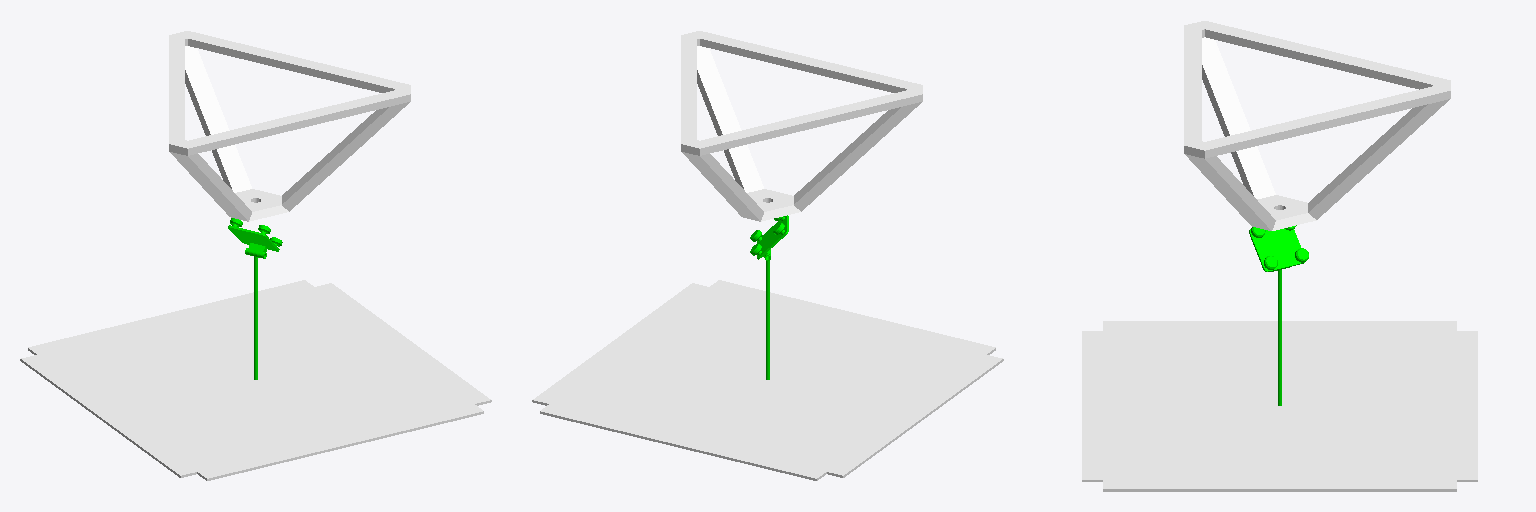
URDF robot description (deltarobot):
<?xml version="1.0"?>
<robot name="deltarobot">

    <!-- RAILS -->
    <link name="rails_link">
        <visual>
            <origin xyz="0 0 0"/>
            <geometry>
                <mesh filename="rails.stl"/>
            </geometry>
            <material name="white">
              <color rgba="1 1 1 1"/>
            </material>
        </visual>
        <collision>
            <origin xyz="0 0 0"/>
            <geometry>
                <mesh filename="rails.stl"/>
            </geometry>
        </collision>
    </link>
    <!-- RAILS END-->

    <!-- ************************************************************************ -->

    <!-- CARRIAGE 2 -->
    <link name="carriage_2_link">
        <visual>
            <origin xyz="0. 0. 0." rpy="0 0 2.0943951"/>
            <geometry>
                <mesh filename="carriage.stl"/>
            </geometry>
            <material name="green">
              <color rgba="0 1 0 1"/>
            </material>
        </visual>
    </link>

    <joint name="carriage_2_joint" type="prismatic">
        <origin xyz="0. 0. 0." rpy="0 0 0"/>
        <parent link="rails_link"/>
        <child link="carriage_2_link"/>
        <axis xyz="-0.61237244 -0.35355339 0.70710678"/>
        <limit lower="0" upper="0" velocity="0" effort="0"/> 
    </joint>
    <!-- CARRIAGE 2 END-->


    <!-- ROD 2A -->
    <link name="rod_2a_link_virtual">
    </link>

    <link name="rod_2a_link">
        <visual>
            <origin xyz="0 0 0"/>
            <geometry>
                <mesh filename="link.stl"/>
            </geometry>
            <material name="green">
              <color rgba="0 1 0 1"/>
            </material>
        </visual>
        <collision>
            <origin xyz="0. 0. 0."/>
            <geometry>
                <mesh filename="link.stl"/>
            </geometry>
        </collision>
    </link>

    <joint name="rod_2a_x_joint" type="revolute">
        <origin xyz="0 0 0" rpy="0 0 0"/>
        <parent link="carriage_2_link"/>
        <child link="rod_2a_link_virtual"/>
        <axis xyz="-0.5 0.8660254 0"/>
        <limit lower="0" upper="0" velocity="0" effort="0"/> 
    </joint>

    <joint name="rod_2a_y_joint" type="revolute">
        <origin xyz="0 0 0" rpy="0 0 0"/>
        <parent link="rod_2a_link_virtual"/>
        <child link="rod_2a_link"/>
        <axis xyz="-0.8660254 -0.5 0"/>
        <limit lower="0" upper="0" velocity="0" effort="0"/> 
    </joint>
    <!-- ROD 2A END-->

    <!-- ROD 2 END EFFECTOR -->
    <link name="rod_2_end_effector_link">
    </link>

    <joint name="rod_2_end_effector_joint" type="fixed">
        <origin xyz="0 0 -400"/>
        <parent link="rod_2a_link"/>
        <child link="rod_2_end_effector_link"/>
    </joint>
    <!-- ROD 2 END EFFECTOR END -->

</robot>

--- Render facts (derived) ---
Views: 3 orthographic renders of the robot side by side, from view 1: azimuth 30°, elevation 25°; view 2: azimuth 150°, elevation 25°; view 3: azimuth 270°, elevation 25°.
Model deltarobot with 5 links and 4 joints (2 revolute, 1 prismatic, 1 fixed), rooted at rails_link, posed all joints at 0.
Links seen in each view (by area): view 1: rails_link, carriage_2_link; view 2: rails_link, carriage_2_link; view 3: rails_link, carriage_2_link, rod_2a_link.
Link boxes in pixels (x1,y1,x2,y2): rails_link: [20, 31, 491, 480]; carriage_2_link: [228, 218, 282, 258]; rails_link: [532, 31, 1003, 480]; carriage_2_link: [750, 215, 788, 260]; rails_link: [1082, 21, 1477, 491]; carriage_2_link: [1249, 225, 1308, 271]; rod_2a_link: [1278, 270, 1281, 405].
Bounding box of the posed robot: 664 × 664 × 740 m (x, y, z).
3 mesh visuals loaded from 3 distinct referenced files (3 binary STL).